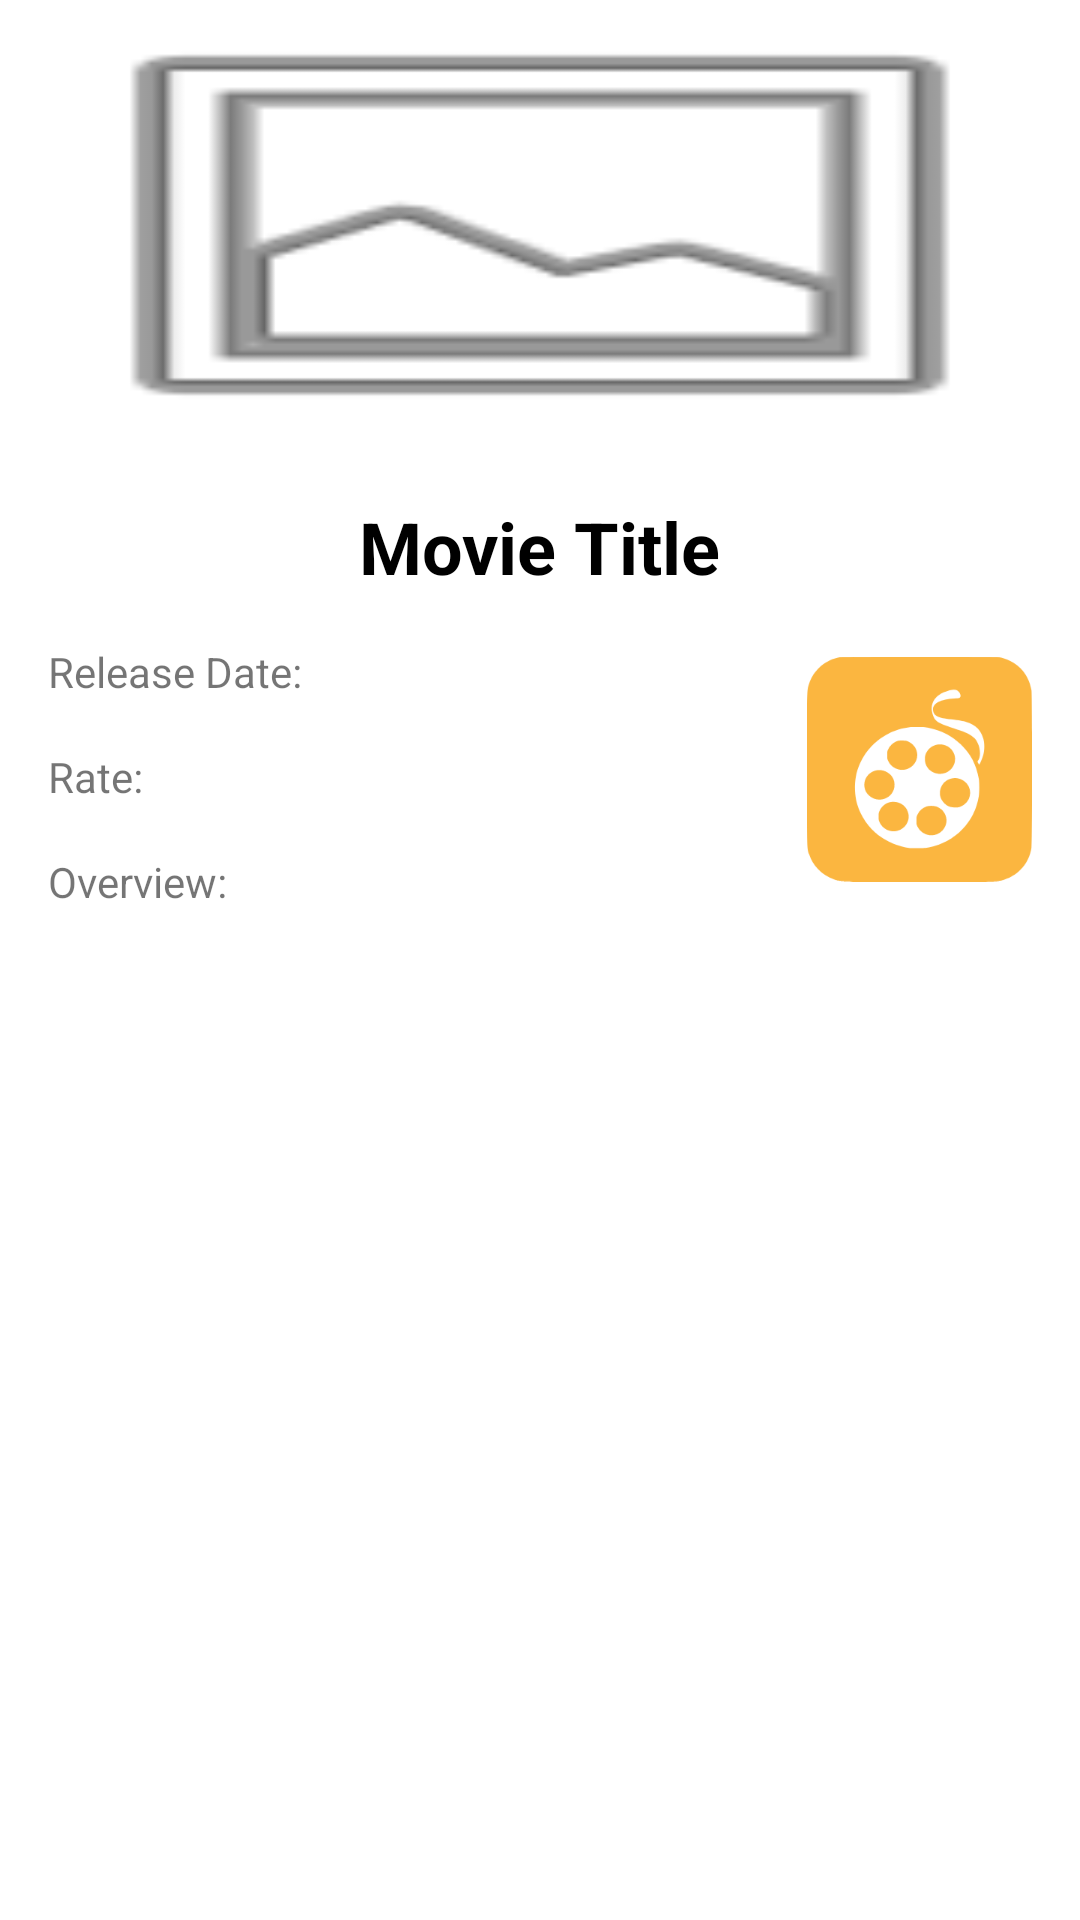

Icon bounding boxes for this 1080x1920 phone screenshot, format (x1, y1, x2, y2):
movie app: (807, 657, 1032, 882)
